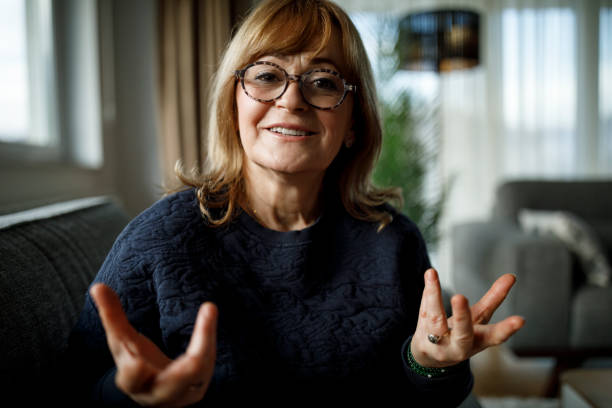without mask: (235, 39, 361, 177)
